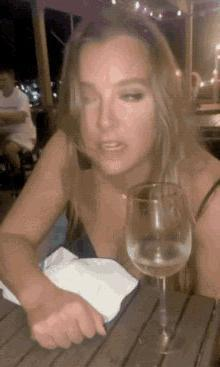Drunk: (77, 52, 153, 170)
